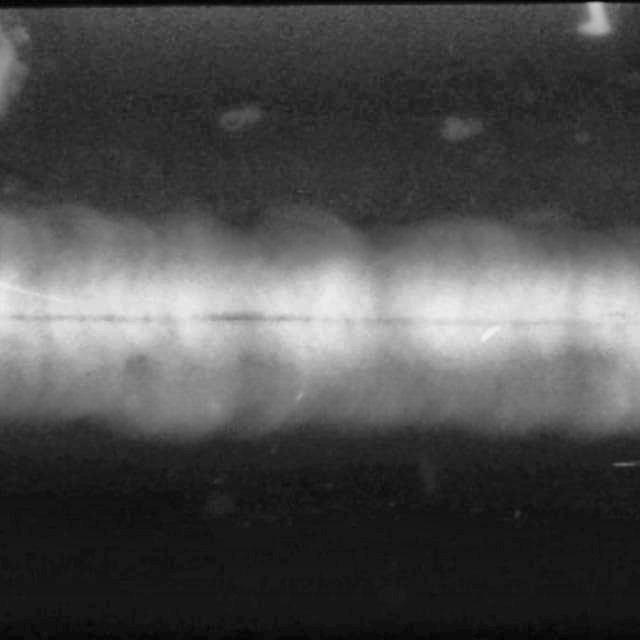LoP-LoF: (12, 291, 640, 362)
